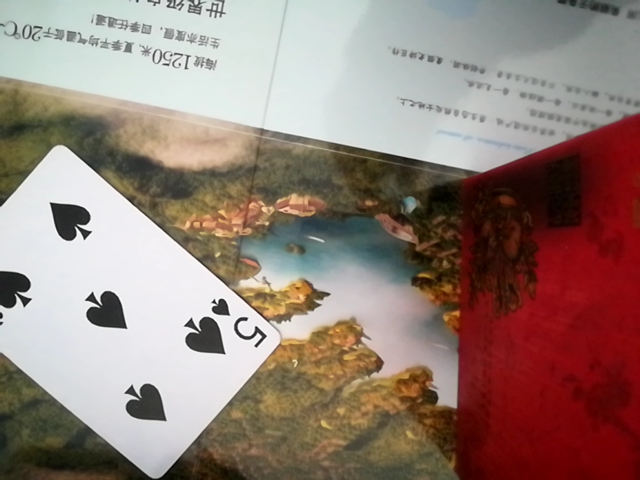ht 5: (0, 141, 280, 477)
